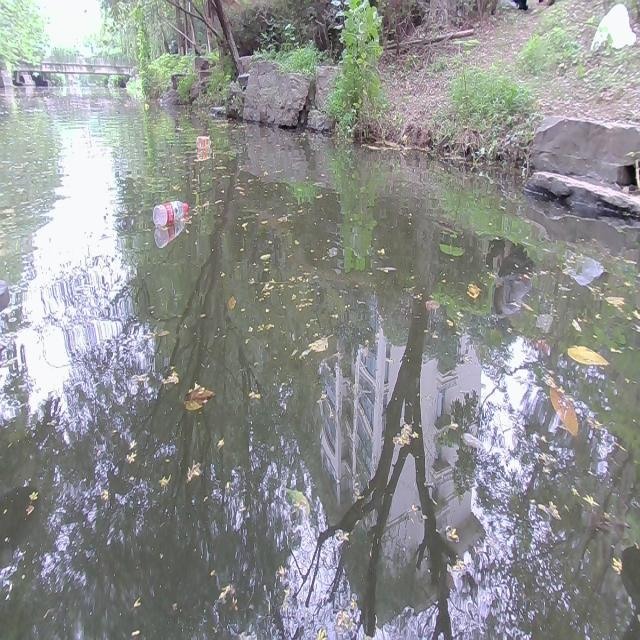bottle: (151, 197, 190, 227), (195, 133, 212, 147), (143, 102, 150, 108)
